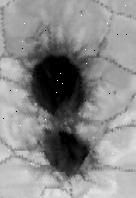good_void: (23, 25, 98, 126), (37, 127, 97, 183), (79, 10, 84, 14), (113, 90, 117, 94)
